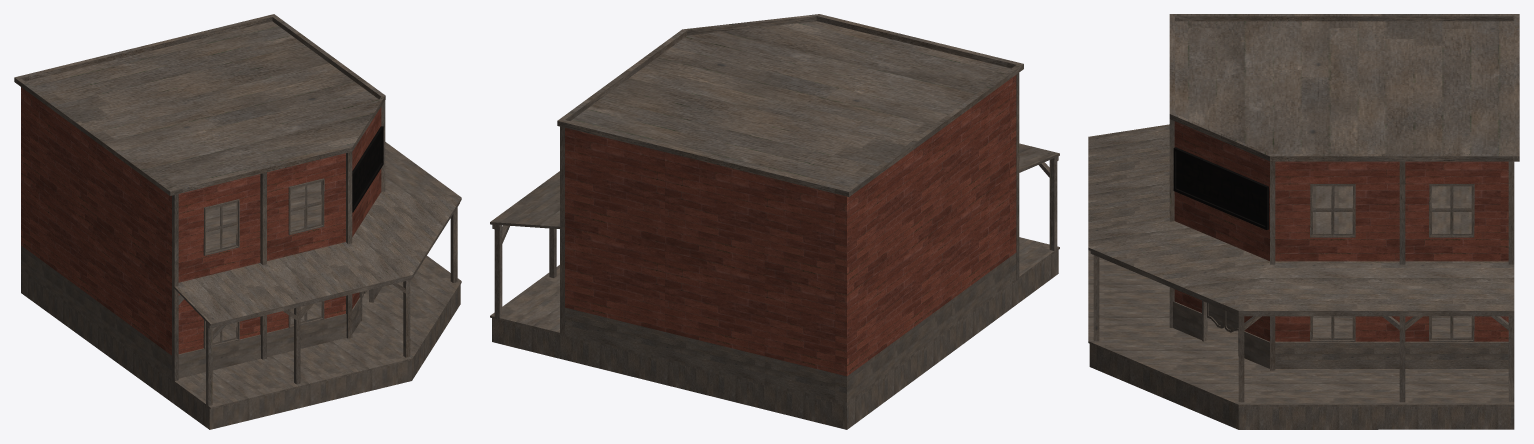
File: oldwest_00.obj
3 views of the same model, side by side, from view 1: azimuth 30°, elevation 25°; view 2: azimuth 150°, elevation 25°; view 3: azimuth 270°, elevation 25° (orthographic). The views are drawn at different scales.
Visible parts, largest first — view 1: Cube.122, Cube.108, Cube.127, Cube.109, Cube.119, Cube.136, Cube.128, Cube.129; view 2: Cube.122, Cube.108, Cube.127, Cube.109; view 3: Cube.108, Cube.122, Cube.127, Cube.109, Cube.136, Cube.119, Cube.112, Text.004, Cube.132, Cube.133, Plane.007, Cube.110 (+2 smaller).
Boxes of the visible parts, x1=… form: Cube.122: x1=21, y1=87, x2=381, y2=378; Cube.108: x1=14, y1=14, x2=457, y2=407; Cube.127: x1=21, y1=256, x2=461, y2=429; Cube.109: x1=174, y1=142, x2=461, y2=328; Cube.119: x1=206, y1=182, x2=321, y2=251; Cube.136: x1=352, y1=126, x2=383, y2=212; Cube.128: x1=288, y1=178, x2=324, y2=235; Cube.129: x1=203, y1=199, x2=239, y2=255; Cube.122: x1=563, y1=75, x2=1016, y2=402; Cube.108: x1=494, y1=14, x2=1057, y2=335; Cube.127: x1=490, y1=237, x2=1059, y2=429; Cube.109: x1=490, y1=143, x2=1059, y2=229; Cube.108: x1=1093, y1=14, x2=1519, y2=402; Cube.122: x1=1174, y1=121, x2=1508, y2=368; Cube.127: x1=1088, y1=250, x2=1514, y2=429; Cube.109: x1=1088, y1=124, x2=1514, y2=316; Cube.136: x1=1173, y1=147, x2=1268, y2=230; Cube.119: x1=1313, y1=186, x2=1471, y2=233; Cube.112: x1=1173, y1=289, x2=1269, y2=368; Text.004: x1=1182, y1=159, x2=1261, y2=217; Cube.132: x1=1429, y1=184, x2=1474, y2=237; Cube.133: x1=1310, y1=184, x2=1355, y2=237; Plane.007: x1=1207, y1=303, x2=1238, y2=332; Cube.110: x1=1244, y1=316, x2=1508, y2=330.
Bounding box in the file's own units: 7.25 × 4.62 × 7.48.
5 materials, 4 textured.
